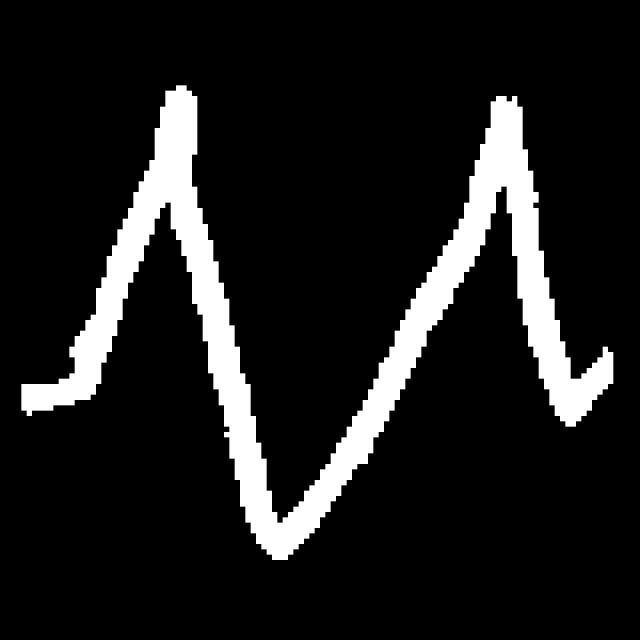resistor: (60, 66, 588, 588)
